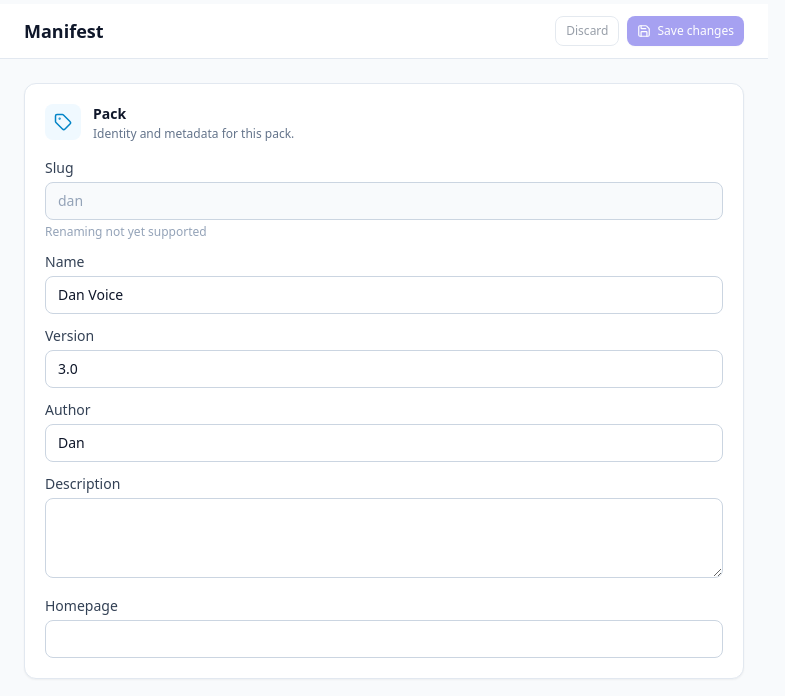
Test: ManifestForm › enables save when a field is edited
Check: the field showing "Dan Voice" is shown, box [45, 276, 723, 314]
Check: the button "Save changes" is disabled, box [628, 16, 744, 46]
Replace the text in the field labelled "Author" with "Dan Baskette": (384, 443) [45, 424, 723, 462]
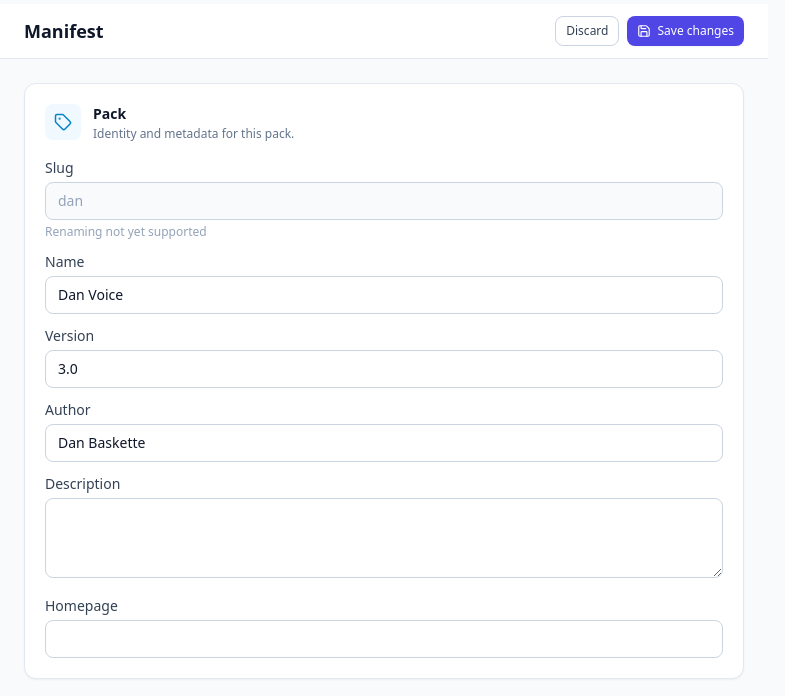
Check: the button "Save changes" is enabled, box [628, 16, 744, 46]
